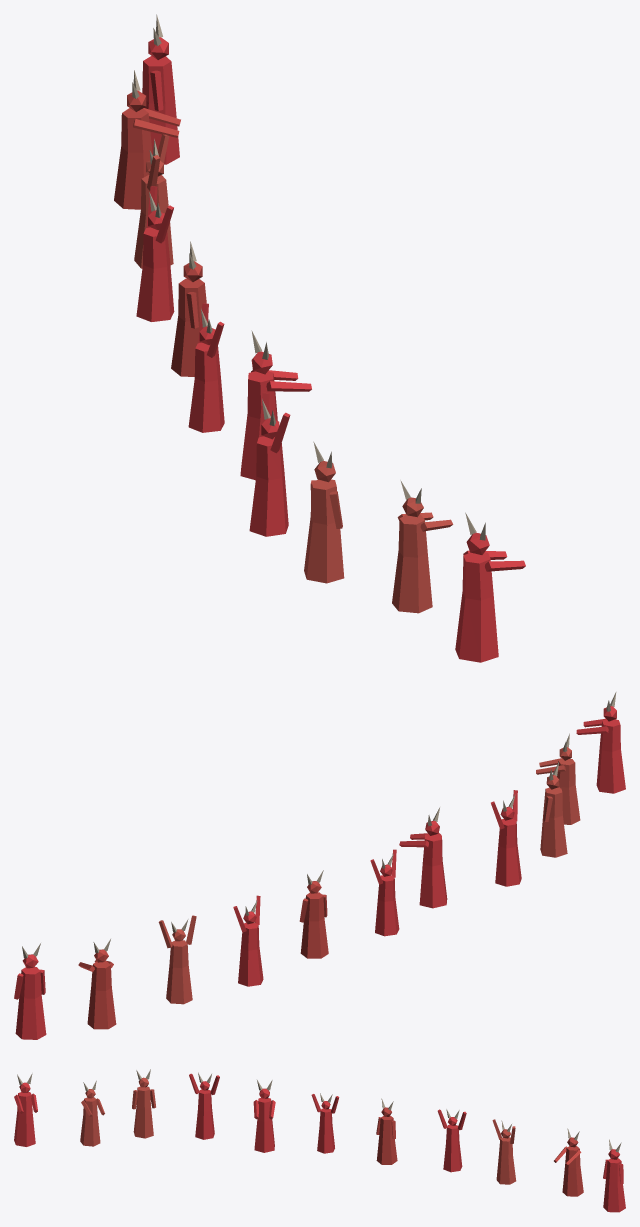
The model's file is Stands_7_0_2.obj.
3 views of the same model, one above another, from view 1: azimuth 30°, elevation 25°; view 2: azimuth 150°, elevation 25°; view 3: azimuth 270°, elevation 25° (orthographic). The views are drawn at different scales.
Visible parts, largest first — view 1: Stands_7_0_2; view 2: Stands_7_0_2; view 3: Stands_7_0_2.
Part boxes in pixels (bbox=[...]): Stands_7_0_2: bbox=[114, 14, 525, 662]; Stands_7_0_2: bbox=[14, 692, 625, 1039]; Stands_7_0_2: bbox=[14, 1069, 625, 1212].
Bounding box in the file's own units: 10.67 × 4.11 × 33.19.
Materials: 1 (1 with a texture image).
